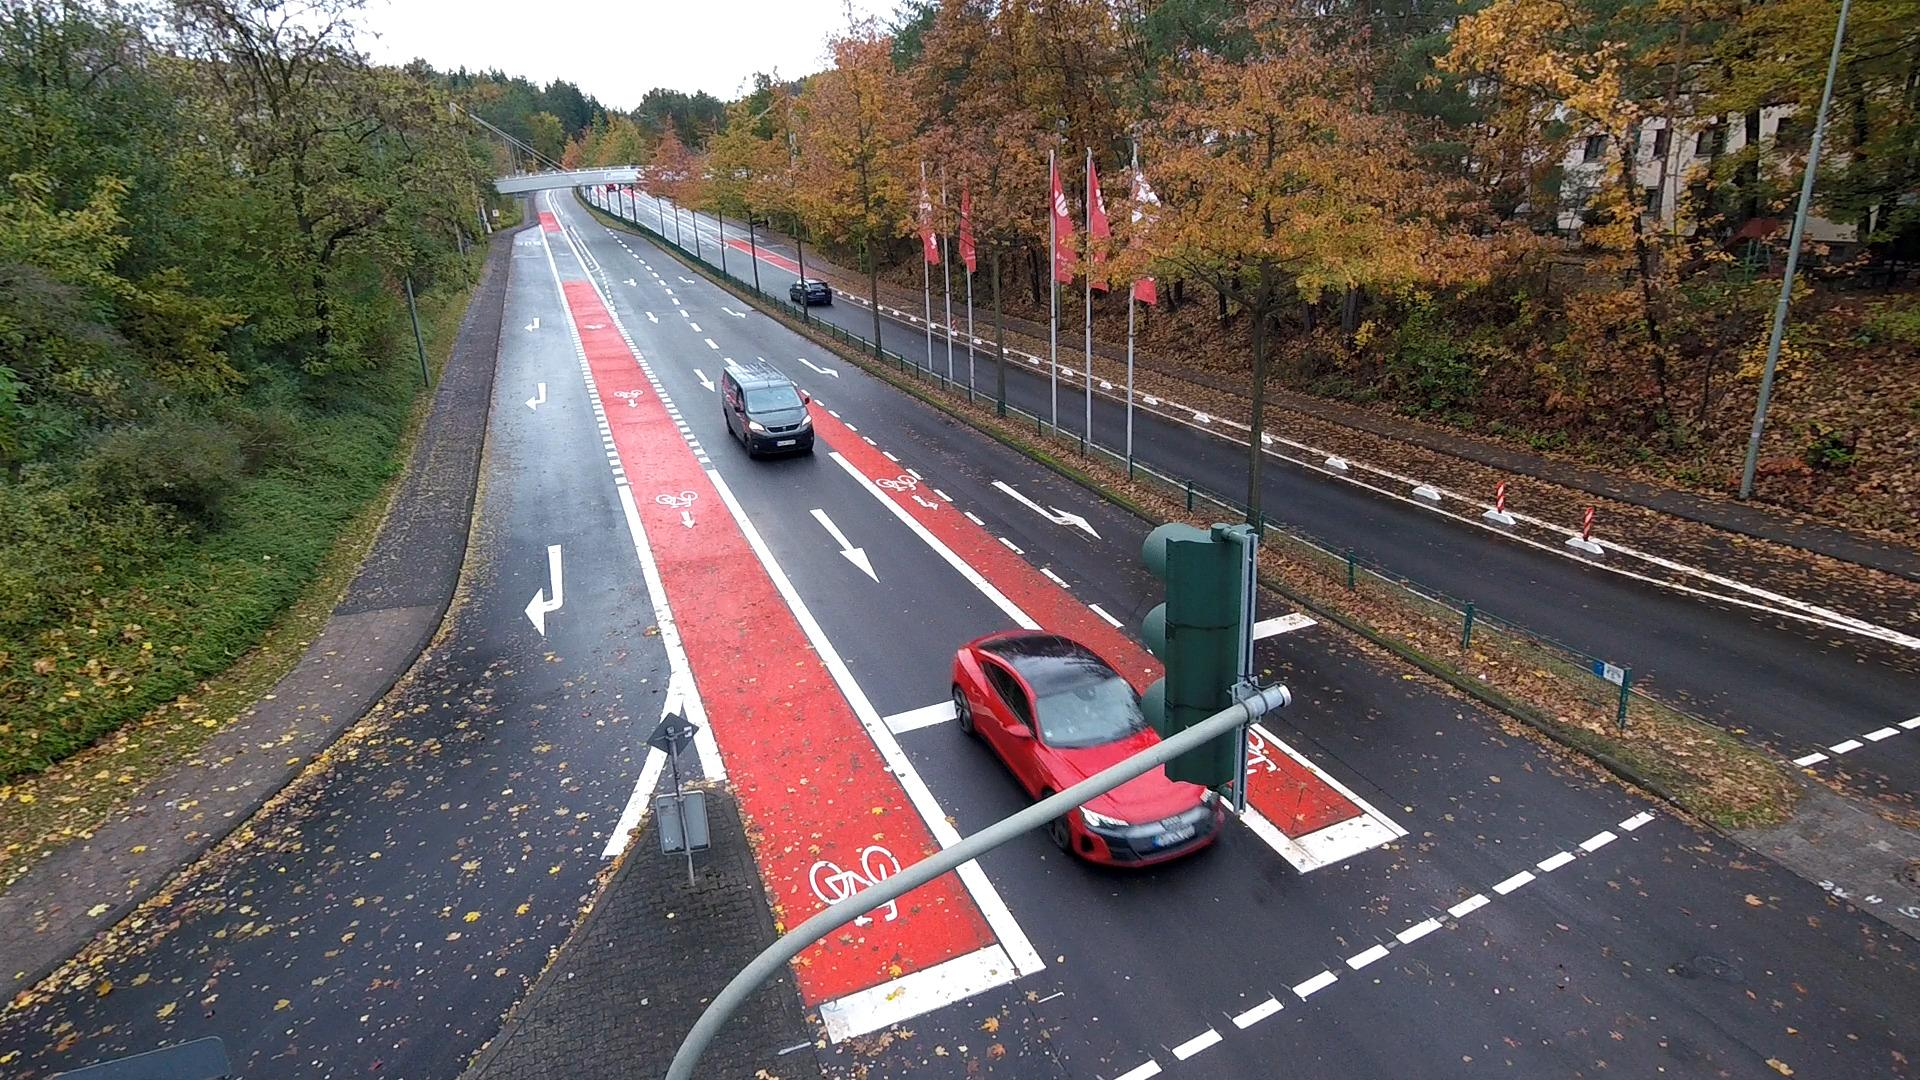bicycle-lane: (535, 190, 961, 938), (1262, 402, 1920, 638), (791, 378, 1164, 699), (789, 855, 1048, 1051), (1131, 365, 1251, 427), (800, 262, 872, 302), (1001, 327, 1051, 361), (876, 289, 927, 320), (1091, 352, 1129, 386), (756, 245, 800, 274), (1056, 343, 1088, 375), (721, 232, 753, 256), (632, 189, 661, 212), (972, 318, 997, 344), (695, 220, 721, 241), (930, 306, 948, 328), (951, 311, 968, 334), (678, 214, 695, 229), (661, 204, 676, 219)
car: (952, 630, 1159, 799), (1046, 769, 1222, 866), (720, 360, 814, 458), (787, 277, 832, 307), (604, 185, 616, 193)
car-lane: (0, 224, 680, 1080), (554, 186, 1166, 839), (1258, 450, 1920, 822), (1131, 404, 1251, 514), (807, 295, 876, 345), (1005, 359, 1054, 425), (878, 314, 927, 371), (756, 257, 804, 313), (1091, 392, 1129, 462), (1055, 375, 1088, 440), (723, 243, 758, 290), (973, 347, 997, 402), (754, 233, 799, 261), (696, 229, 725, 270), (927, 331, 949, 380), (634, 198, 662, 236), (951, 339, 971, 388), (678, 220, 699, 258), (721, 222, 752, 243), (663, 212, 679, 247), (695, 211, 720, 229), (621, 190, 634, 222), (637, 189, 661, 204), (608, 193, 621, 216), (658, 196, 676, 211), (599, 185, 608, 212), (675, 204, 692, 219), (578, 187, 588, 202), (591, 185, 597, 206)
